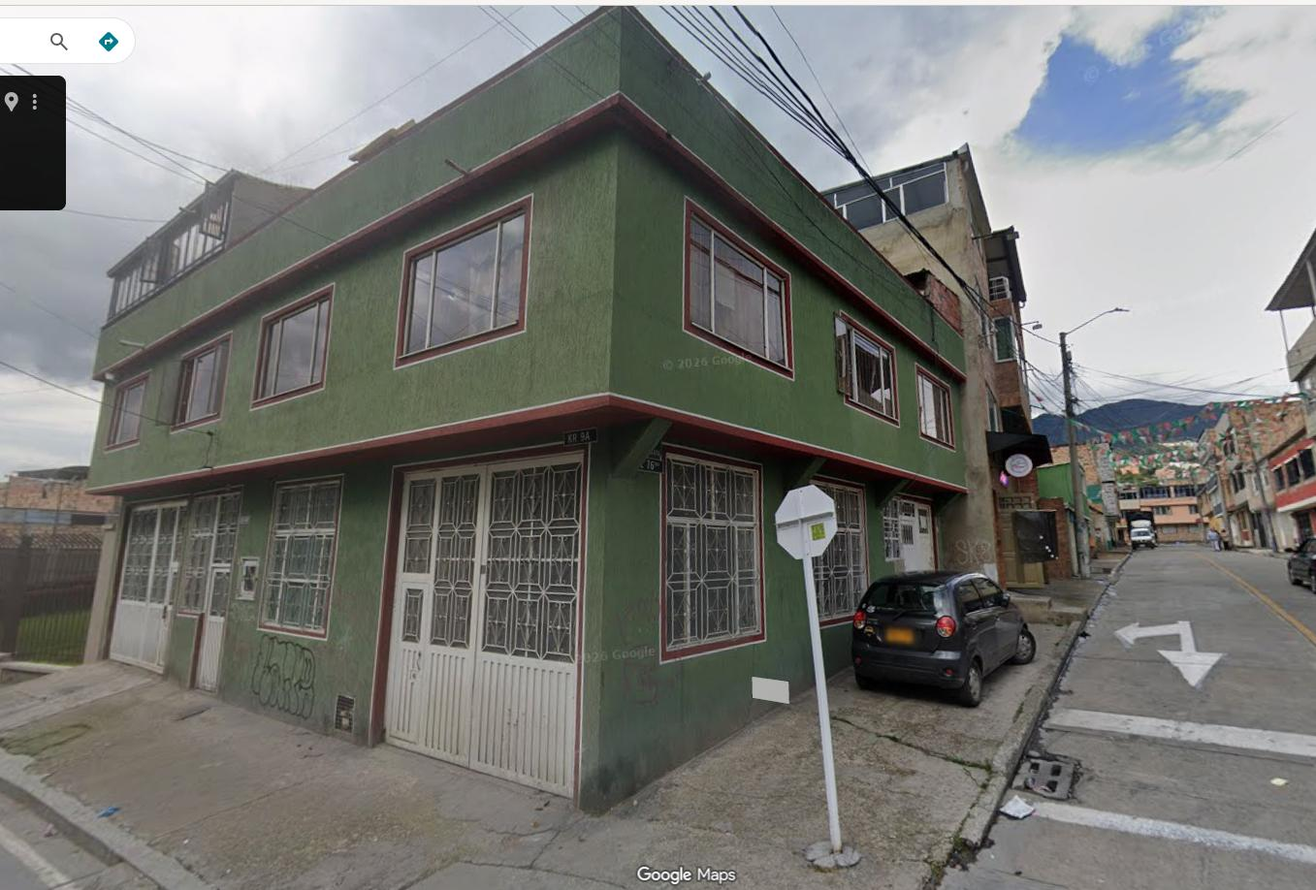casa: (88, 7, 1011, 808)
poste: (1062, 334, 1089, 578)
